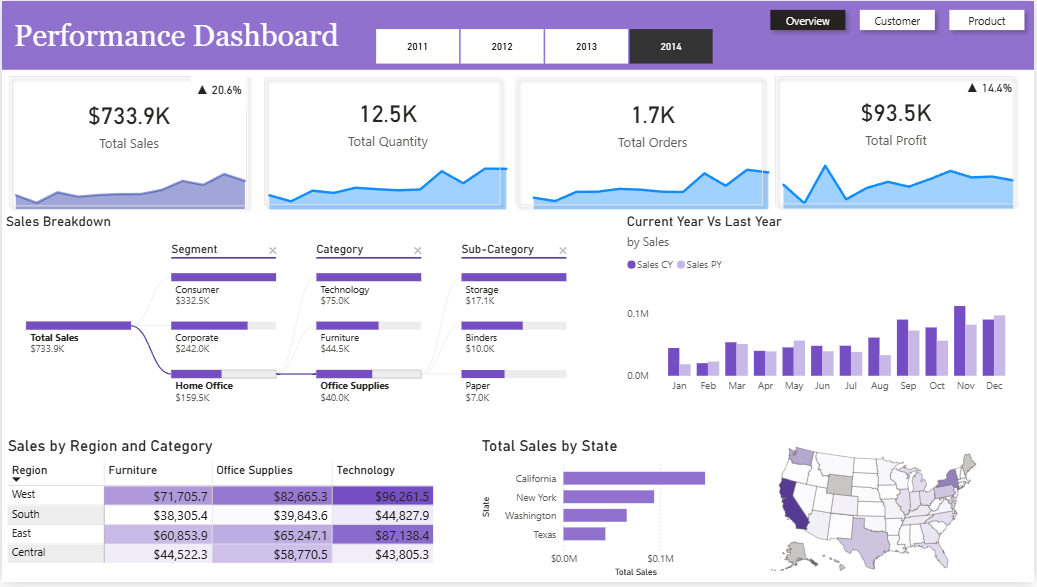

This screenshot's page, from the dashboard's own definition file:
{"tool":"powerbi","page":{"name":"Overview","canvas":[1280,720],"ordinal":0},"visuals":[{"type":"shape","box":[0,0,1280,85.3],"z":0,"group":"g2"},{"type":"group","id":"g1","title":"Group 2","box":[0,85.3,316.9,177.6],"z":0},{"type":"card","fields":{"Values":["Measures_Table.Total Sales"]},"box":[0,85.3,315.2,130.6],"z":0,"group":"g1"},{"type":"card","fields":{"Values":["Measures_Table.Total_quantity"]},"box":[315.2,85.3,325.3,125.5],"z":0,"group":"g3"},{"type":"card","fields":{"Values":["Measures_Table.Total_Order"]},"box":[644.4,87,322.1,128.9],"z":0,"group":"g4"},{"type":"card","fields":{"Values":["Measures_Table.Total_profit"]},"box":[950.9,87.2,313.9,119.2],"z":0,"group":"g5"},{"type":"slicer","fields":{"Values":["Dim_Date.Year"]},"box":[437.9,27.6,467.2,56.9],"z":1000,"group":"g2"},{"type":"shape","box":[0,83.6,312.9,179.6],"z":1000},{"type":"lineChart","fields":{"Category":["Dim_Date.Month"],"Y":["Measures_Table.Total Profit"]},"box":[954.5,182.2,315.5,81.5],"z":1000,"group":"g5"},{"type":"lineChart","fields":{"Y":["Measures_Table.Total Sales"],"Category":["Dim_Date.Month"],"Series":["Dim_Date.Year"]},"box":[1.8,185.1,314.7,78.2],"z":1000,"group":"g1"},{"type":"lineChart","fields":{"Category":["Dim_Date.Month"],"Y":["Measures_Table.Total Order"]},"box":[643.3,186.3,322.1,78.4],"z":1000,"group":"g4"},{"type":"lineChart","fields":{"Y":["Measures_Table.Total Quantity"],"Category":["Dim_Date.Month"]},"box":[315.2,186.4,325.3,76.7],"z":1000,"group":"g3"},{"type":"group","id":"g2","title":"Group 1","box":[0,0,1280,85.3],"z":2000},{"type":"group","id":"g3","title":"Group 3","box":[315.2,85.3,325.6,177.6],"z":3000},{"type":"group","id":"g4","title":"Group 4","box":[643.3,87,323.3,177.6],"z":4000},{"type":"group","id":"g5","title":"Group 5","box":[627.6,85.3,642.4,178.4],"z":5000},{"type":"card","fields":{"Values":["Measures_Table.Profit YoY Label"]},"box":[1184.1,85.3,80.1,45.3],"z":6000},{"type":"card","fields":{"Values":["Measures_Table.Sales YoY Label"]},"box":[233.3,85.3,69.7,50.5],"z":7000},{"type":"shape","box":[316.4,85.3,311.1,176],"z":8000},{"type":"shape","box":[950,83.3,313.7,177.2],"z":9000},{"type":"pageNavigator","box":[944,2,334.3,43.5],"z":10000},{"type":"pivotTable","title":"Sales by Region and Category","fields":{"Values":["Measures_Table.Total Sales"],"Rows":["Dim_Geo.Region"],"Columns":["Dim_Product.Category"]},"box":[2,540,540,180],"z":11000},{"type":"clusteredBarChart","fields":{"Category":["Dim_Geo.State"],"Y":["Measures_Table.Total Sales"]},"box":[590,540,316,180],"z":12000},{"type":"shapeMap","fields":{"Category":["Dim_Geo.State"],"Value":["Measures_Table.Total Sales"]},"box":[884,540,394,180],"z":13000},{"type":"clusteredColumnChart","title":"Current Year Vs Last Year","fields":{"Category":["Dim_Date.Month"],"Y":["Measures_Table.Sales CY","Measures_Table.Sales PY"]},"box":[770,264,494,232],"z":14000},{"type":"decompositionTreeVisual","title":"Sales Breakdown","fields":{"Analyze":["Measures_Table.Total Sales"],"ExplainBy":["Fact_Orders.Segment","Dim_Product.Category","Dim_Product.Sub-Category"]},"box":[0,263.3,770,251.7],"z":15000},{"type":"shape","box":[627.6,85.3,324.8,176.3],"z":20001,"group":"g5"}]}

Visuals, with their boxes in screenshot pixels (x1, y1, x2, y2), scaled from the page's 1280x720 canvas onto the 1037x587 screenshot:
shape: {"x1": 0, "y1": 0, "x2": 1036, "y2": 70}
"Group 2" group: {"x1": 0, "y1": 70, "x2": 257, "y2": 214}
card - Measures_Table.Total Sales: {"x1": 0, "y1": 70, "x2": 255, "y2": 176}
card - Measures_Table.Total_quantity: {"x1": 255, "y1": 70, "x2": 519, "y2": 172}
card - Measures_Table.Total_Order: {"x1": 522, "y1": 71, "x2": 783, "y2": 176}
card - Measures_Table.Total_profit: {"x1": 770, "y1": 71, "x2": 1025, "y2": 168}
slicer - Dim_Date.Year: {"x1": 355, "y1": 23, "x2": 733, "y2": 69}
shape: {"x1": 0, "y1": 68, "x2": 253, "y2": 215}
lineChart - Dim_Date.Month x Measures_Table.Total Profit: {"x1": 773, "y1": 149, "x2": 1029, "y2": 215}
lineChart - Measures_Table.Total Sales x Dim_Date.Month: {"x1": 1, "y1": 151, "x2": 256, "y2": 215}
lineChart - Dim_Date.Month x Measures_Table.Total Order: {"x1": 521, "y1": 152, "x2": 782, "y2": 216}
lineChart - Measures_Table.Total Quantity x Dim_Date.Month: {"x1": 255, "y1": 152, "x2": 519, "y2": 214}
"Group 1" group: {"x1": 0, "y1": 0, "x2": 1036, "y2": 70}
"Group 3" group: {"x1": 255, "y1": 70, "x2": 519, "y2": 214}
"Group 4" group: {"x1": 521, "y1": 71, "x2": 783, "y2": 216}
"Group 5" group: {"x1": 508, "y1": 70, "x2": 1029, "y2": 215}
card - Measures_Table.Profit YoY Label: {"x1": 959, "y1": 70, "x2": 1024, "y2": 106}
card - Measures_Table.Sales YoY Label: {"x1": 189, "y1": 70, "x2": 245, "y2": 111}
shape: {"x1": 256, "y1": 70, "x2": 508, "y2": 213}
shape: {"x1": 770, "y1": 68, "x2": 1024, "y2": 212}
pageNavigator: {"x1": 765, "y1": 2, "x2": 1036, "y2": 37}
"Sales by Region and Category" pivotTable: {"x1": 2, "y1": 440, "x2": 439, "y2": 586}
clusteredBarChart - Dim_Geo.State x Measures_Table.Total Sales: {"x1": 478, "y1": 440, "x2": 734, "y2": 586}
shapeMap - Dim_Geo.State x Measures_Table.Total Sales: {"x1": 716, "y1": 440, "x2": 1035, "y2": 586}
"Current Year Vs Last Year" clusteredColumnChart: {"x1": 624, "y1": 215, "x2": 1024, "y2": 404}
"Sales Breakdown" decompositionTreeVisual: {"x1": 0, "y1": 215, "x2": 624, "y2": 420}
shape: {"x1": 508, "y1": 70, "x2": 772, "y2": 213}
